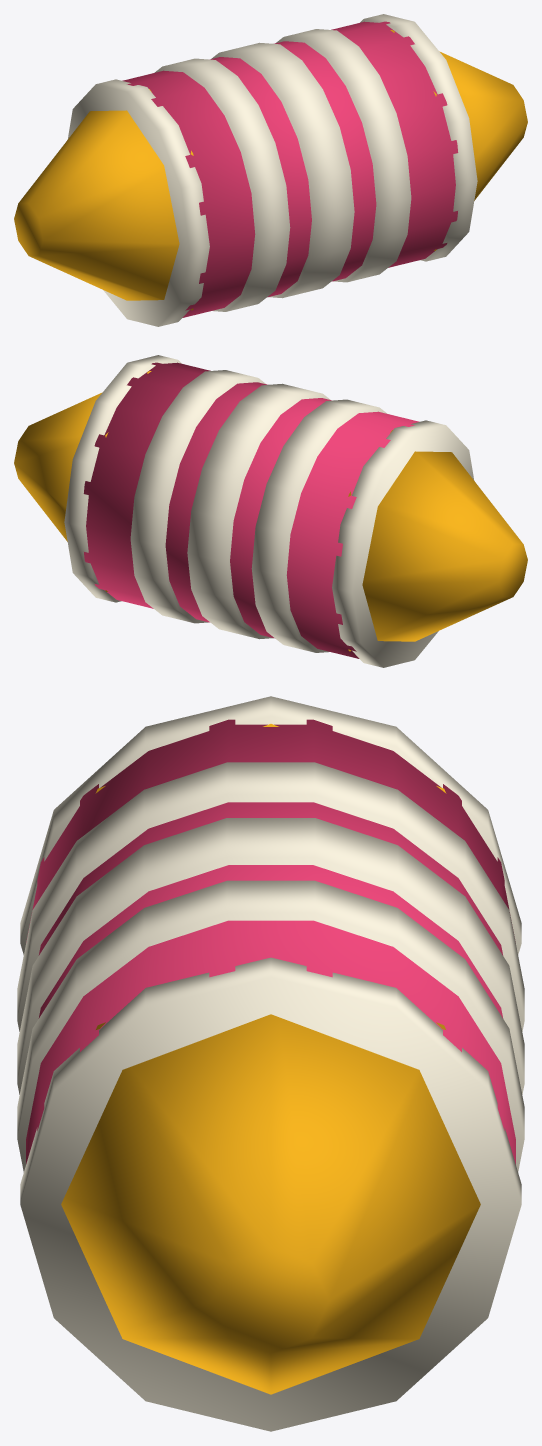
Rendered from candy.fbx.
The picture shows the model from 3 angles, top to bottom: view 1: azimuth 30°, elevation 25°; view 2: azimuth 150°, elevation 25°; view 3: azimuth 270°, elevation 25°; orthographic projection. The views are drawn at different scales.
Visible parts, largest first — view 1: candy; view 2: candy; view 3: candy.
Boxes of the visible parts, x1=… form: candy: x1=14, y1=14, x2=527, y2=326; candy: x1=14, y1=355, x2=527, y2=667; candy: x1=17, y1=696, x2=524, y2=1431.
Bounding box in the file's own units: 100 × 44.79 × 45.31.
Materials: 1 (1 with a texture image).
